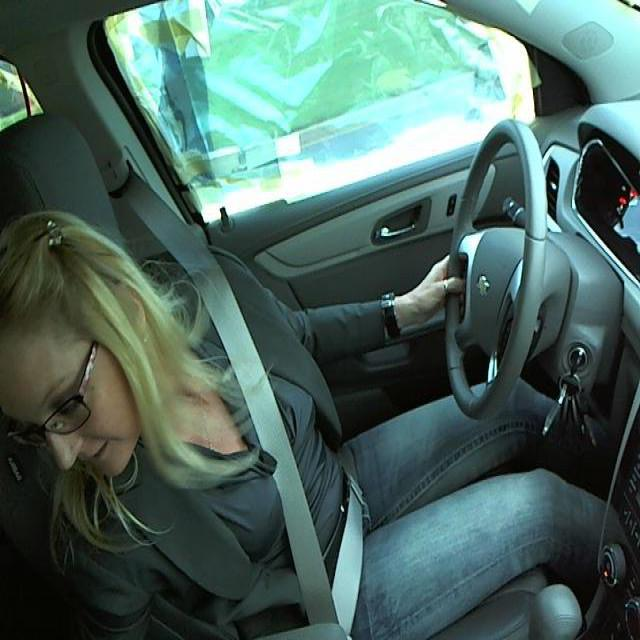seatbelt: (179, 254, 381, 622)
